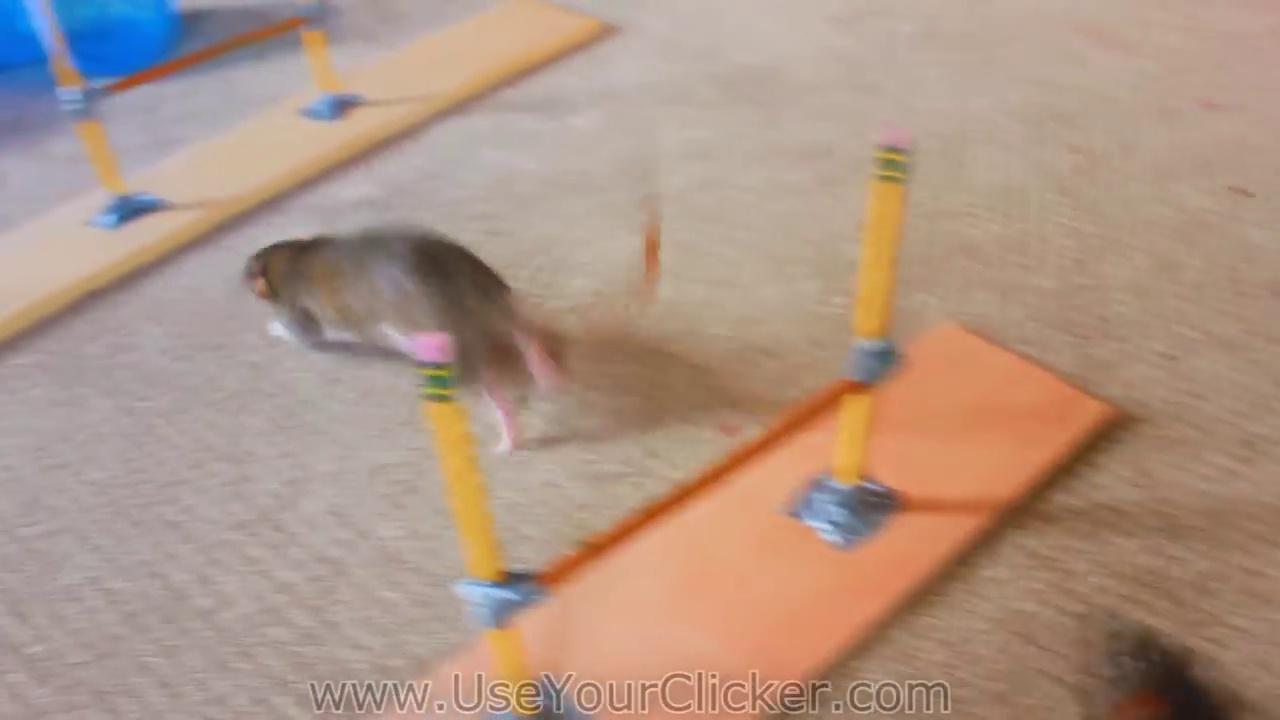rat: (239, 220, 662, 448)
